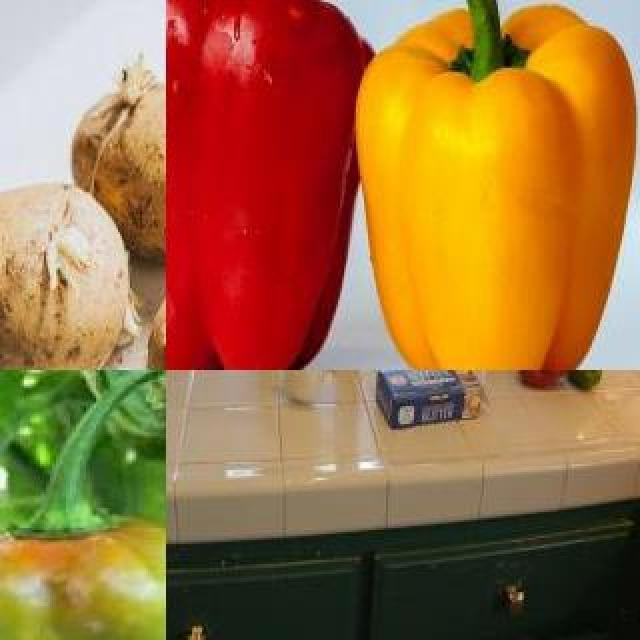Potato: (0, 180, 128, 370), (70, 82, 166, 256)
